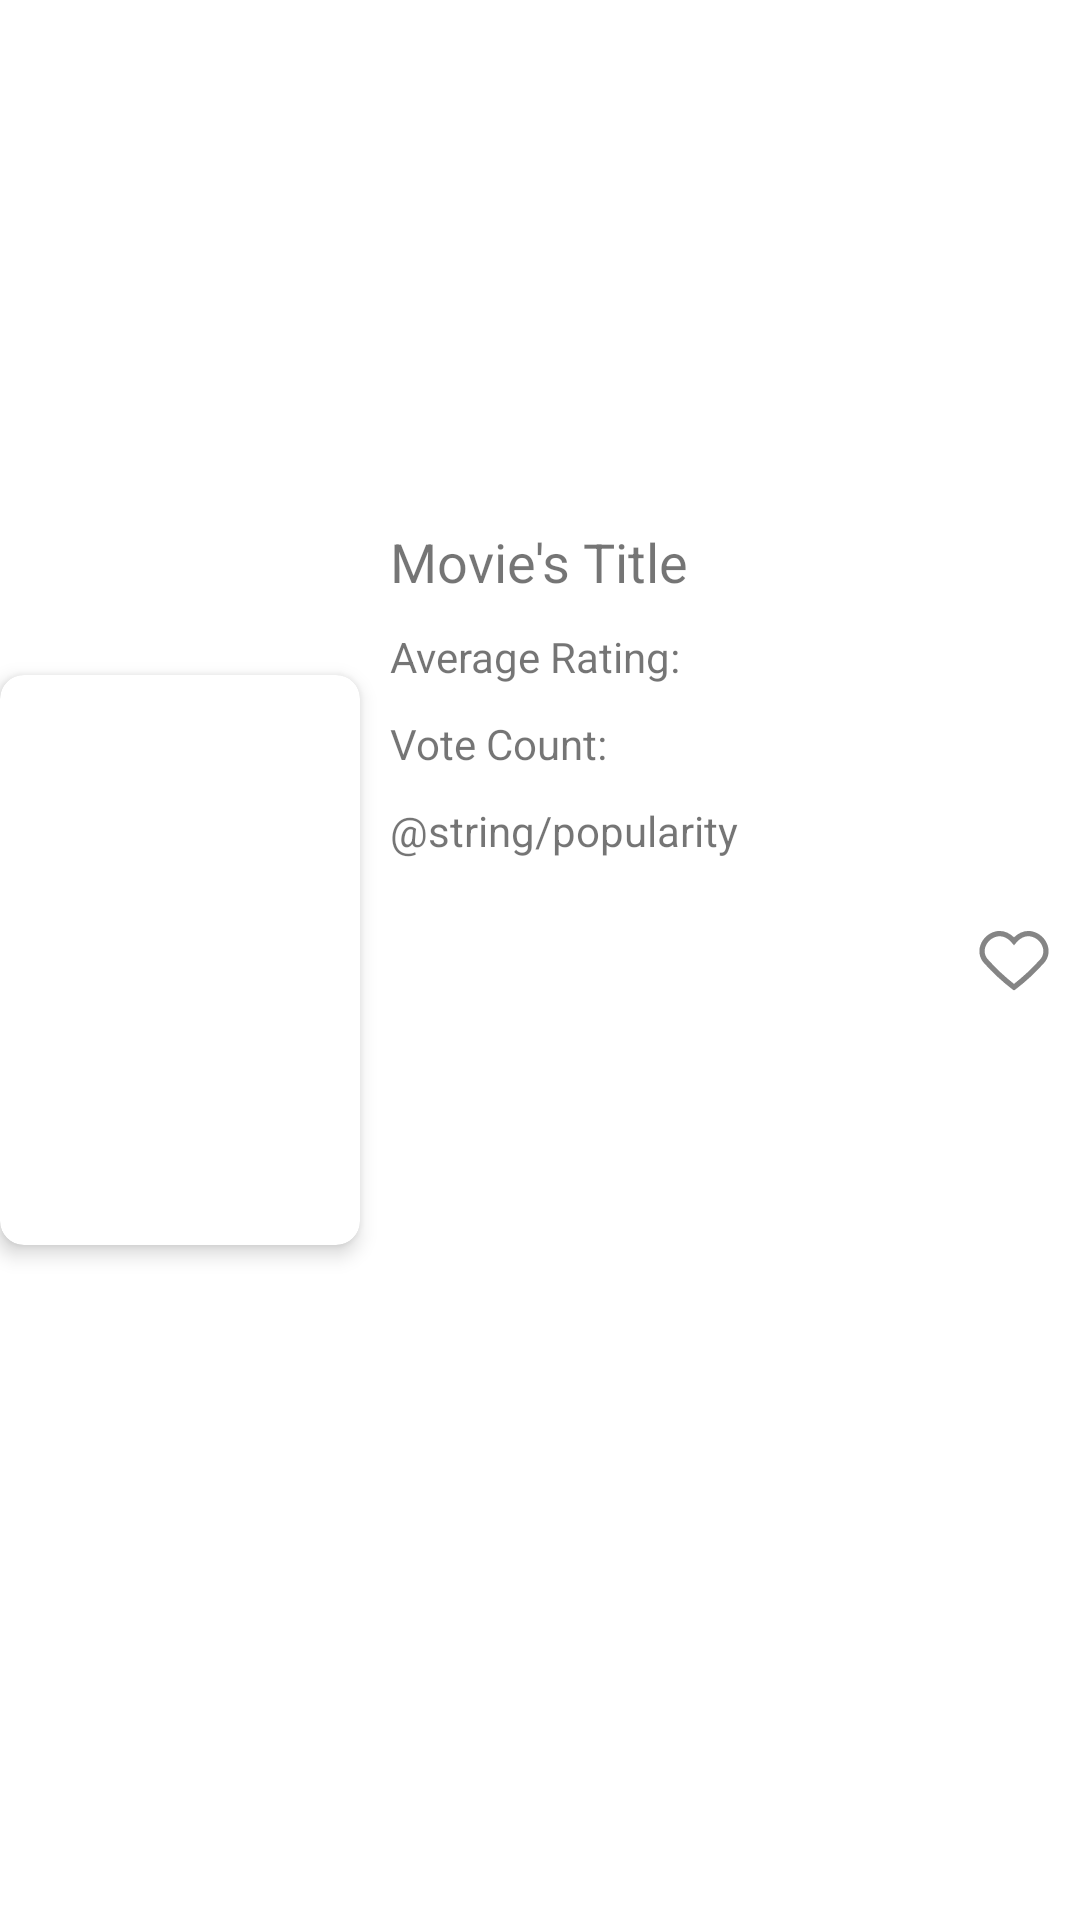

Point at icon controls on the screen. Image size 1080*1920, points as point (x, y).
unliked: point (1014, 960)
